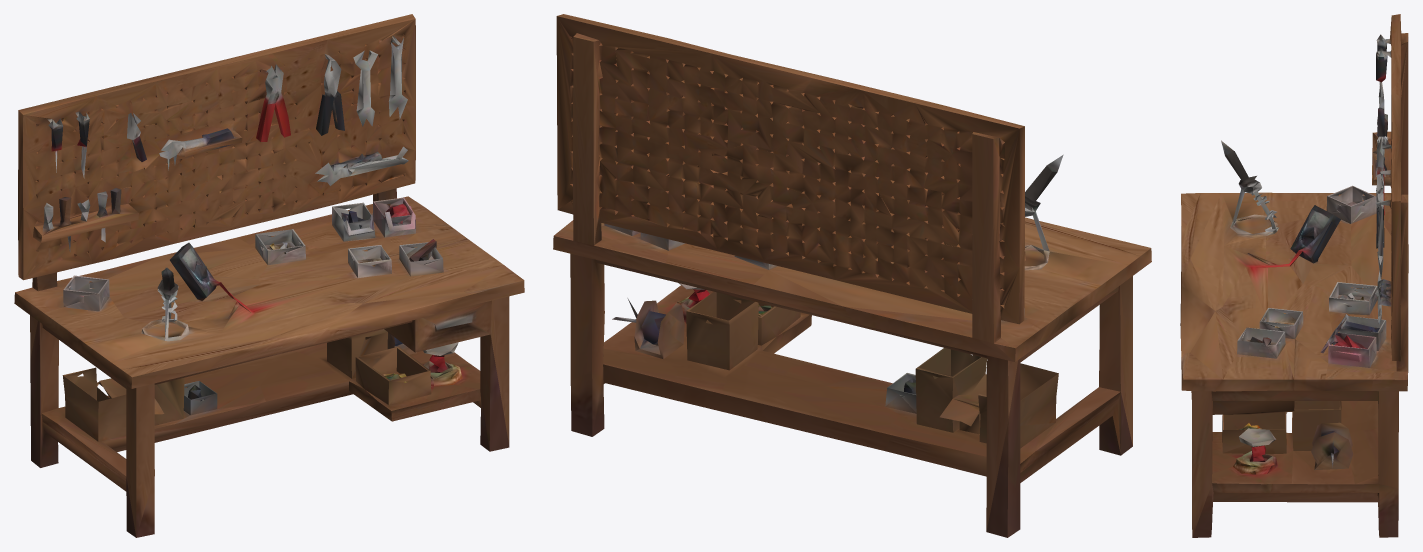
The model's file is workbench_electronics_nastolnyy_idle.glb.
The picture shows the model from 3 angles, left to right: view 1: azimuth 30°, elevation 25°; view 2: azimuth 150°, elevation 25°; view 3: azimuth 270°, elevation 25°; orthographic projection. The views are drawn at different scales.
Visible parts, largest first — view 1: tripo_node_bdb7ed40-c3c9-46b7-9889-80eb1144d41e; view 2: tripo_node_bdb7ed40-c3c9-46b7-9889-80eb1144d41e; view 3: tripo_node_bdb7ed40-c3c9-46b7-9889-80eb1144d41e.
Part boxes in pixels (<box>): tripo_node_bdb7ed40-c3c9-46b7-9889-80eb1144d41e: <box>14,14,524,537</box>; tripo_node_bdb7ed40-c3c9-46b7-9889-80eb1144d41e: <box>553,14,1151,537</box>; tripo_node_bdb7ed40-c3c9-46b7-9889-80eb1144d41e: <box>1180,14,1408,537</box>.
Bounding box in the file's own units: 1.4 × 1.19 × 0.7205.
1 material, 1 textured.
